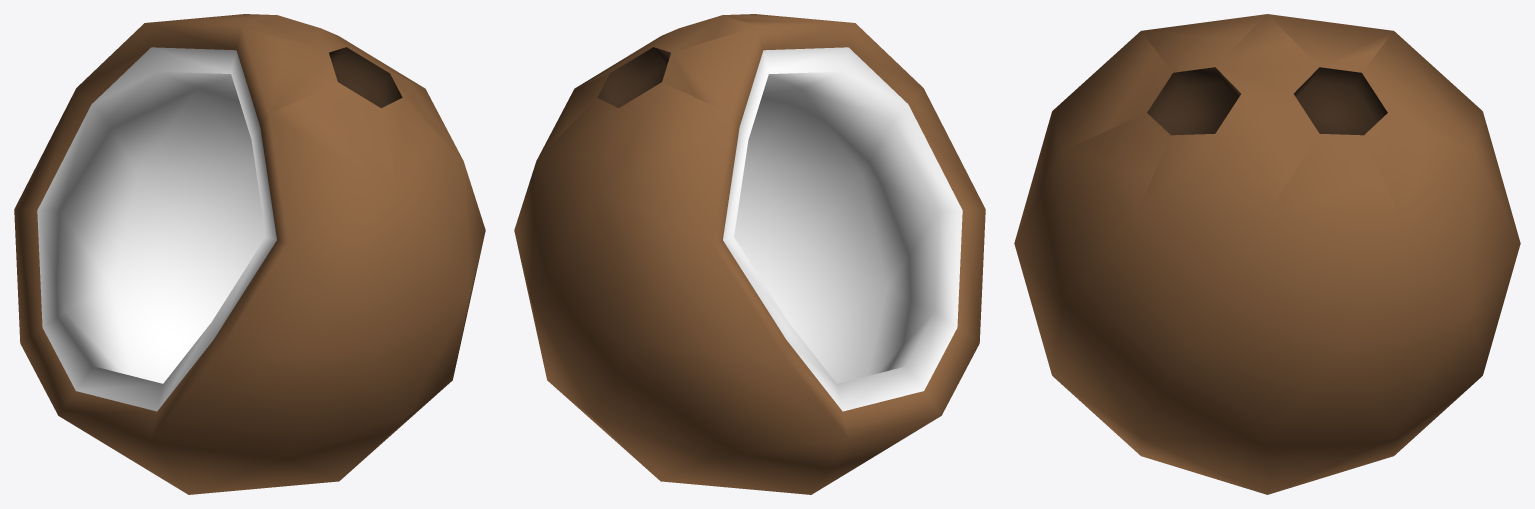
The model's file is item_coconut.fbx.
3 views of the same model, side by side, from view 1: azimuth 30°, elevation 25°; view 2: azimuth 150°, elevation 25°; view 3: azimuth 270°, elevation 25° (orthographic).
Visible parts, largest first — view 1: Icosphere.002; view 2: Icosphere.002; view 3: Icosphere.002.
Boxes of the visible parts, x1=… form: Icosphere.002: x1=14, y1=14, x2=485, y2=494; Icosphere.002: x1=514, y1=14, x2=985, y2=494; Icosphere.002: x1=1014, y1=14, x2=1520, y2=494.
Bounding box in the file's own units: 180 × 200 × 200.
